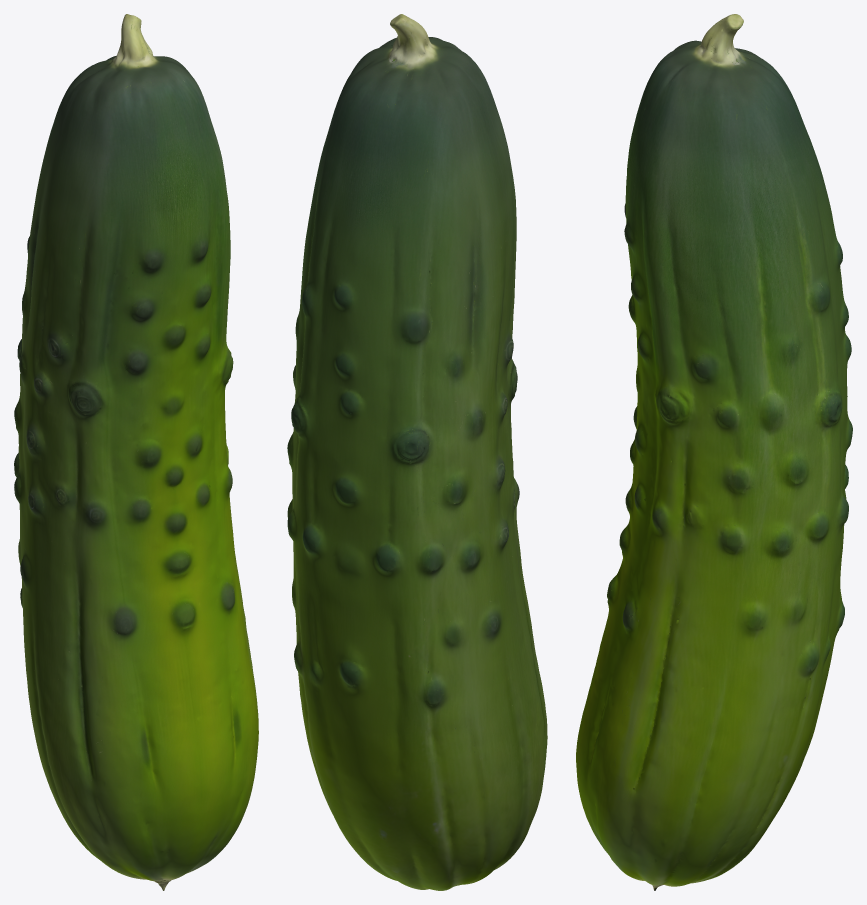
The model's file is cucumberB.glb.
3 views of the same model, side by side, from view 1: azimuth 30°, elevation 25°; view 2: azimuth 150°, elevation 25°; view 3: azimuth 270°, elevation 25° (orthographic). The views are drawn at different scales.
Bounding box in the file's own units: 0.4926 × 2 × 0.5713.
Materials: 1 (1 with a texture image).
